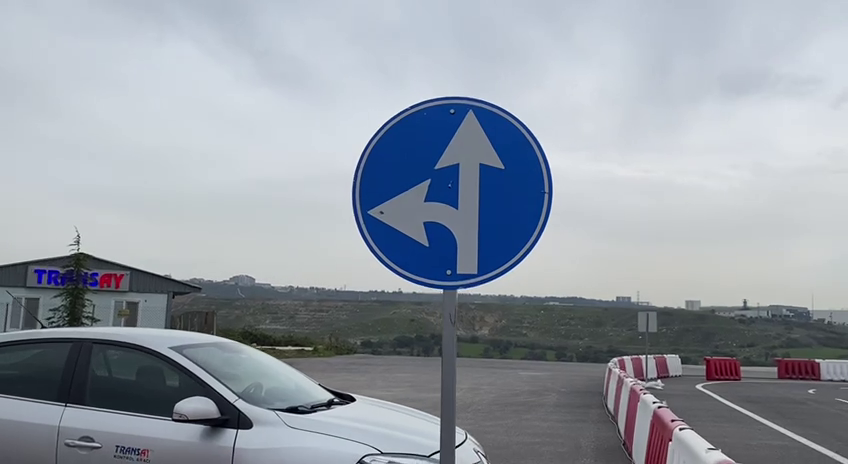forwardAndLeft: (348, 90, 558, 291)
